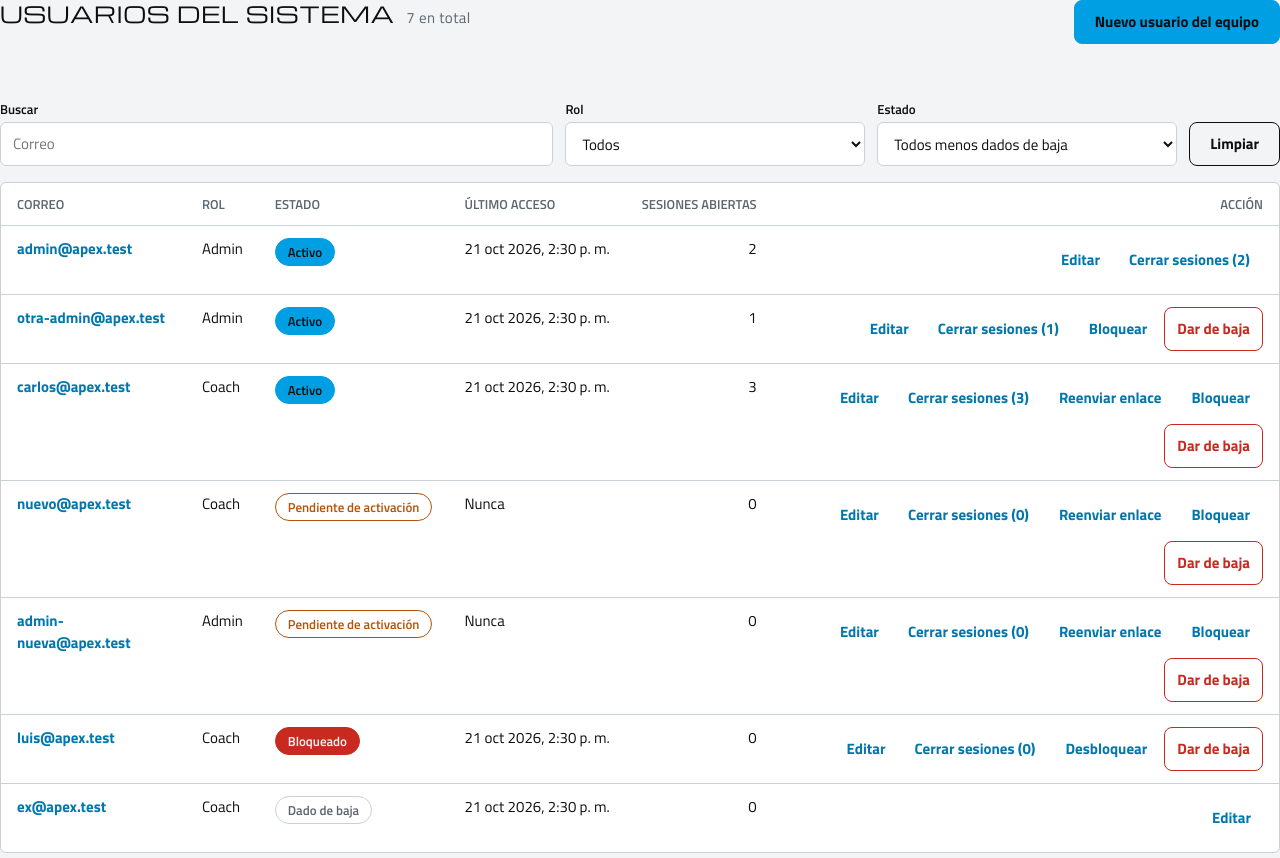
Test: UsersPage · dar de baja (US-050) › pide confirmación con la consecuencia y hace DELETE /users/{id}
Step 1. Click the 2nd button "Dar de baja" → (1214, 446), box [1164,424,1263,468]
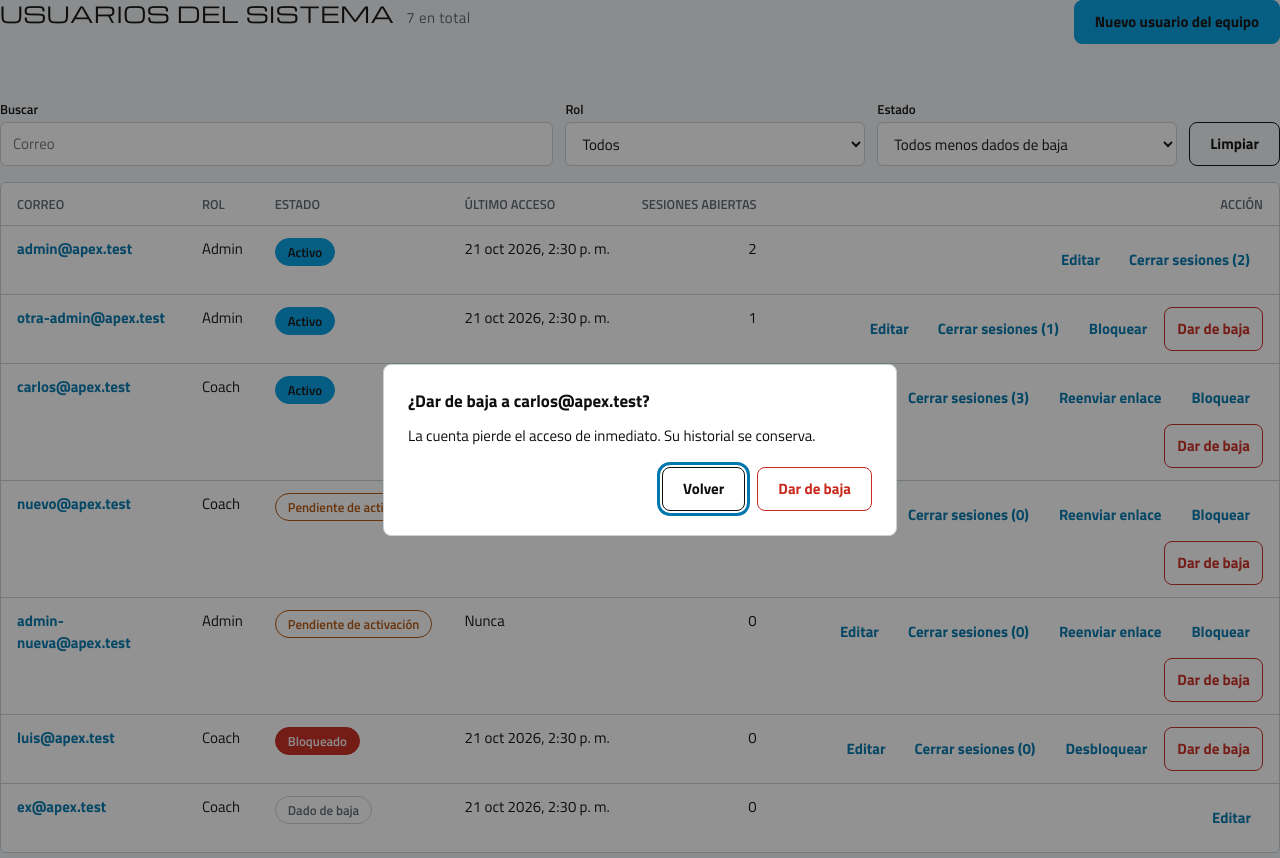
Step 2. Click the button "Dar de baja" → (815, 489), box [757,467,872,511]
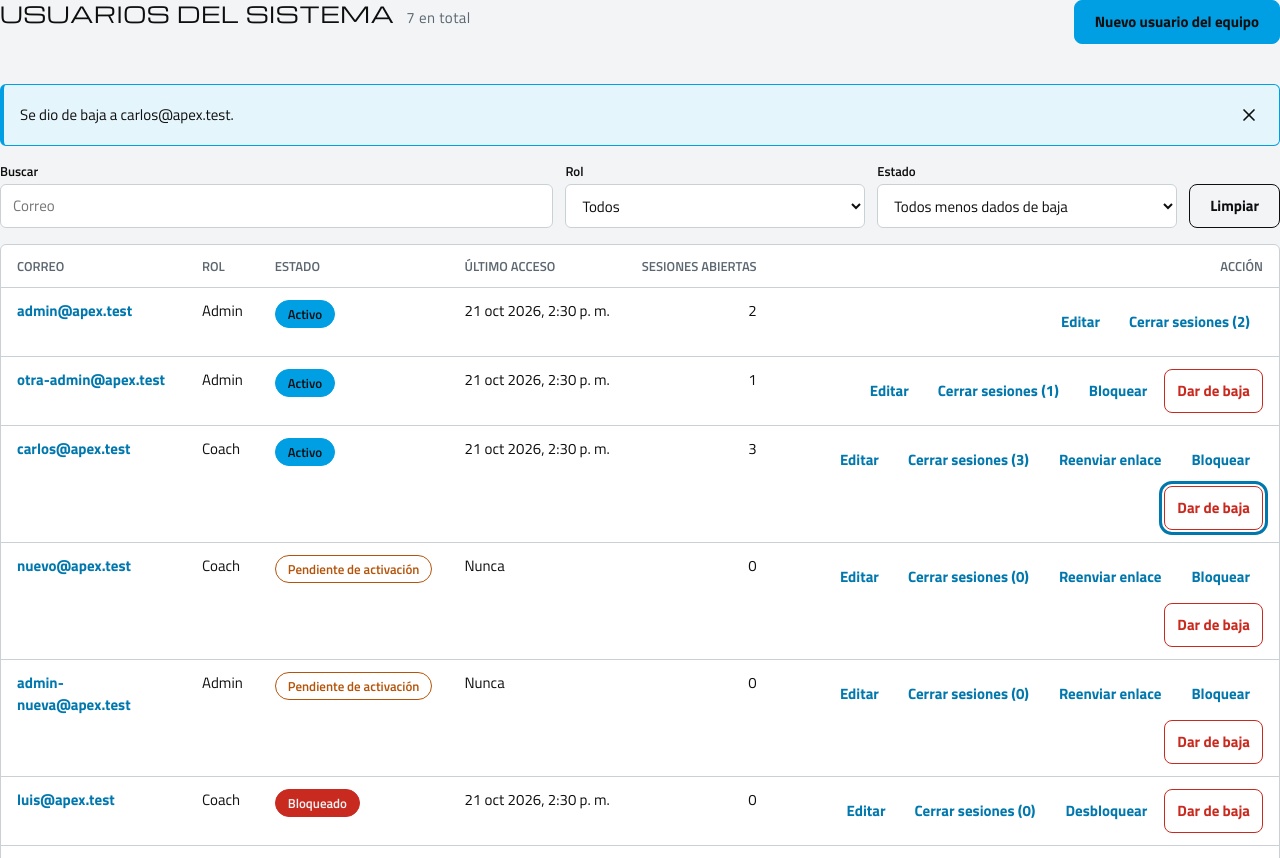
Now the dialog is gone
